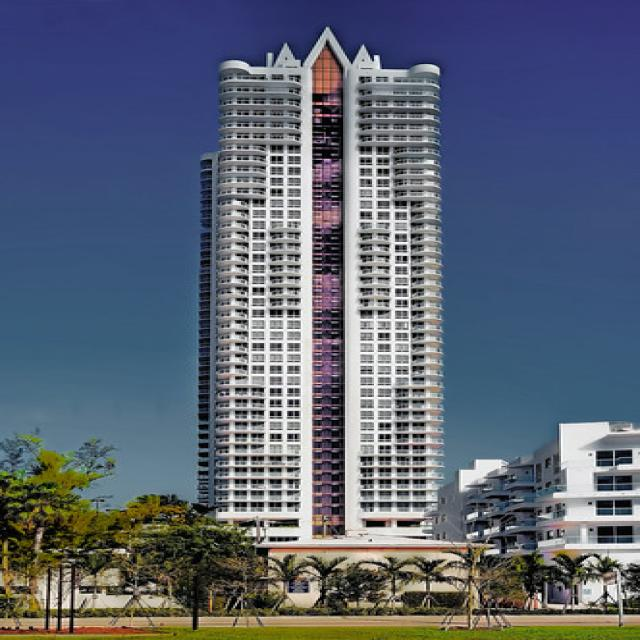building: (186, 22, 450, 600)
